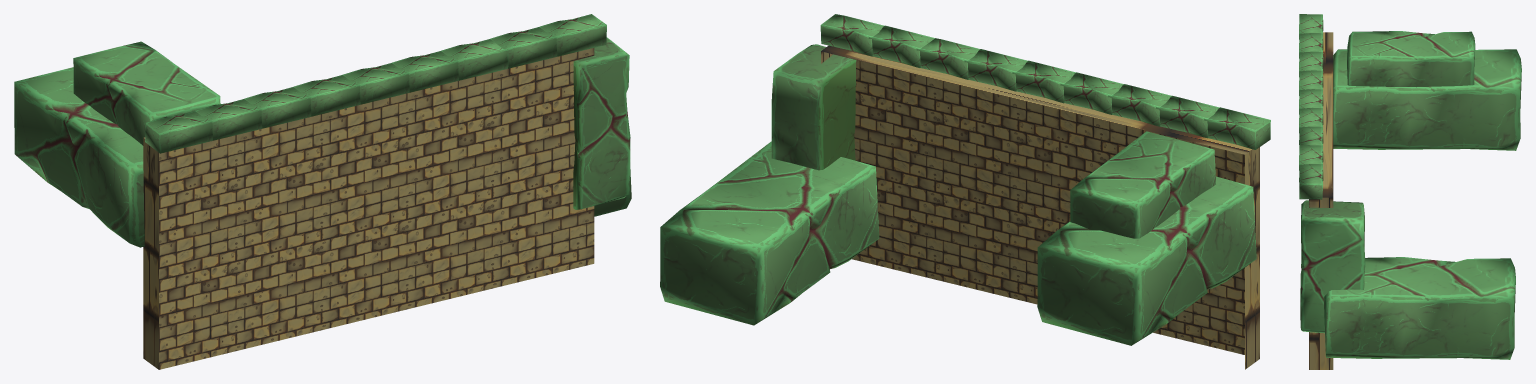
The model's file is walls_north_south1.obj.
The picture shows the model from 3 angles, left to right: view 1: azimuth 30°, elevation 25°; view 2: azimuth 150°, elevation 25°; view 3: azimuth 270°, elevation 25°; orthographic projection. The views are drawn at different scales.
Visible parts, largest first — view 1: Puente.001, brick3_low.038, brick3_low.007, brick3_low.084, brick3_low.008; view 2: Puente.001, brick3_low.017, brick3_low.007, brick3_low.038, brick3_low.008, brick3_low.084; view 3: brick3_low.017, brick3_low.007, brick3_low.008, brick3_low.084, brick3_low.038, Puente.001.
Boxes of the visible parts, <box> form: Puente.001: <box>143,48,594,369</box>; brick3_low.038: <box>145,14,606,153</box>; brick3_low.007: <box>14,67,144,247</box>; brick3_low.084: <box>573,37,630,209</box>; brick3_low.008: <box>73,41,220,145</box>; Puente.001: <box>821,45,1259,369</box>; brick3_low.017: <box>660,141,879,325</box>; brick3_low.007: <box>1037,176,1256,345</box>; brick3_low.038: <box>820,14,1270,149</box>; brick3_low.008: <box>1070,131,1215,238</box>; brick3_low.084: <box>771,44,856,170</box>; brick3_low.017: <box>1324,257,1515,359</box>; brick3_low.007: <box>1333,49,1521,150</box>; brick3_low.008: <box>1347,31,1475,87</box>; brick3_low.084: <box>1300,200,1365,333</box>; brick3_low.038: <box>1299,14,1323,199</box>; Puente.001: <box>1309,32,1333,369</box>.
Size of the model in its own units: 869 by 403 by 431.
